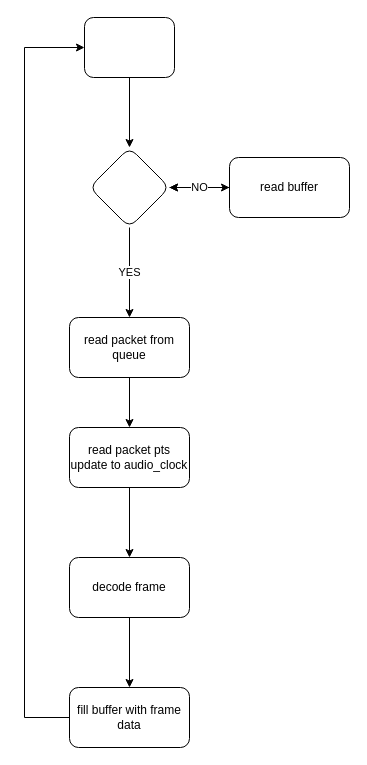
The diagram is 367 pixels wide and 765 high, and some of its shapes have lost their labels. The centre of each missing label's shape, as x and y in pixels:
audio callback: [129,47]
buffer empty: [129,187]
